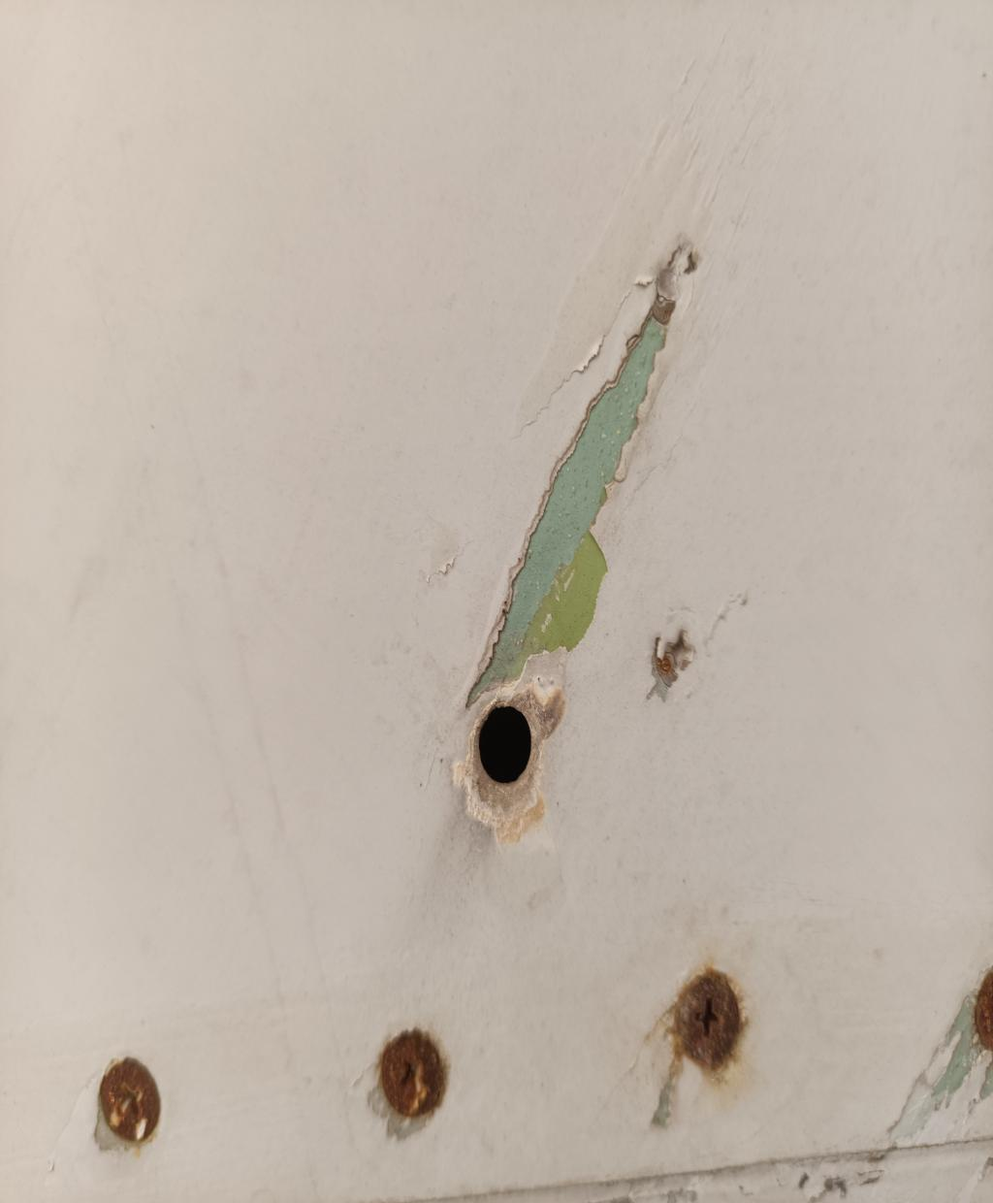corrosion: (459, 247, 717, 697), (678, 967, 742, 1076), (380, 1028, 450, 1118), (475, 703, 545, 792), (101, 1055, 161, 1141), (973, 962, 993, 1062)
